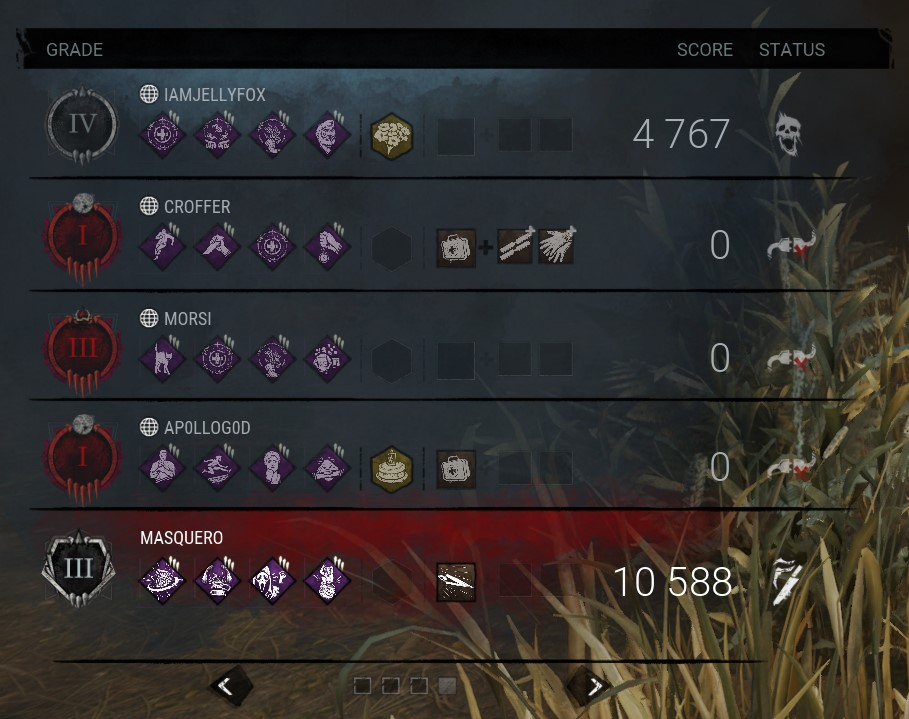boon:exponential: (193, 109, 240, 156)
boon:shadowstep: (248, 110, 295, 157), (249, 334, 296, 381)
borrowed_time: (304, 221, 351, 268)
circle_of_healing: (138, 109, 185, 156), (249, 222, 296, 269), (192, 335, 239, 382)
dead_hard: (138, 222, 185, 269)
decisive_strike: (192, 222, 239, 269)
detectives_hunch: (304, 335, 351, 382)
im_all_ears: (249, 557, 296, 604)
iron_will: (303, 445, 350, 492)
jolt: (138, 556, 185, 603)
lithe: (195, 444, 242, 491)
no_mither: (138, 444, 185, 491)
no_way_out: (194, 557, 241, 604)
pop_goes_the_weasel: (303, 557, 350, 604)
resilience: (248, 444, 295, 491)
spine_chill: (138, 334, 185, 381)
unbreakable: (303, 109, 350, 156)
